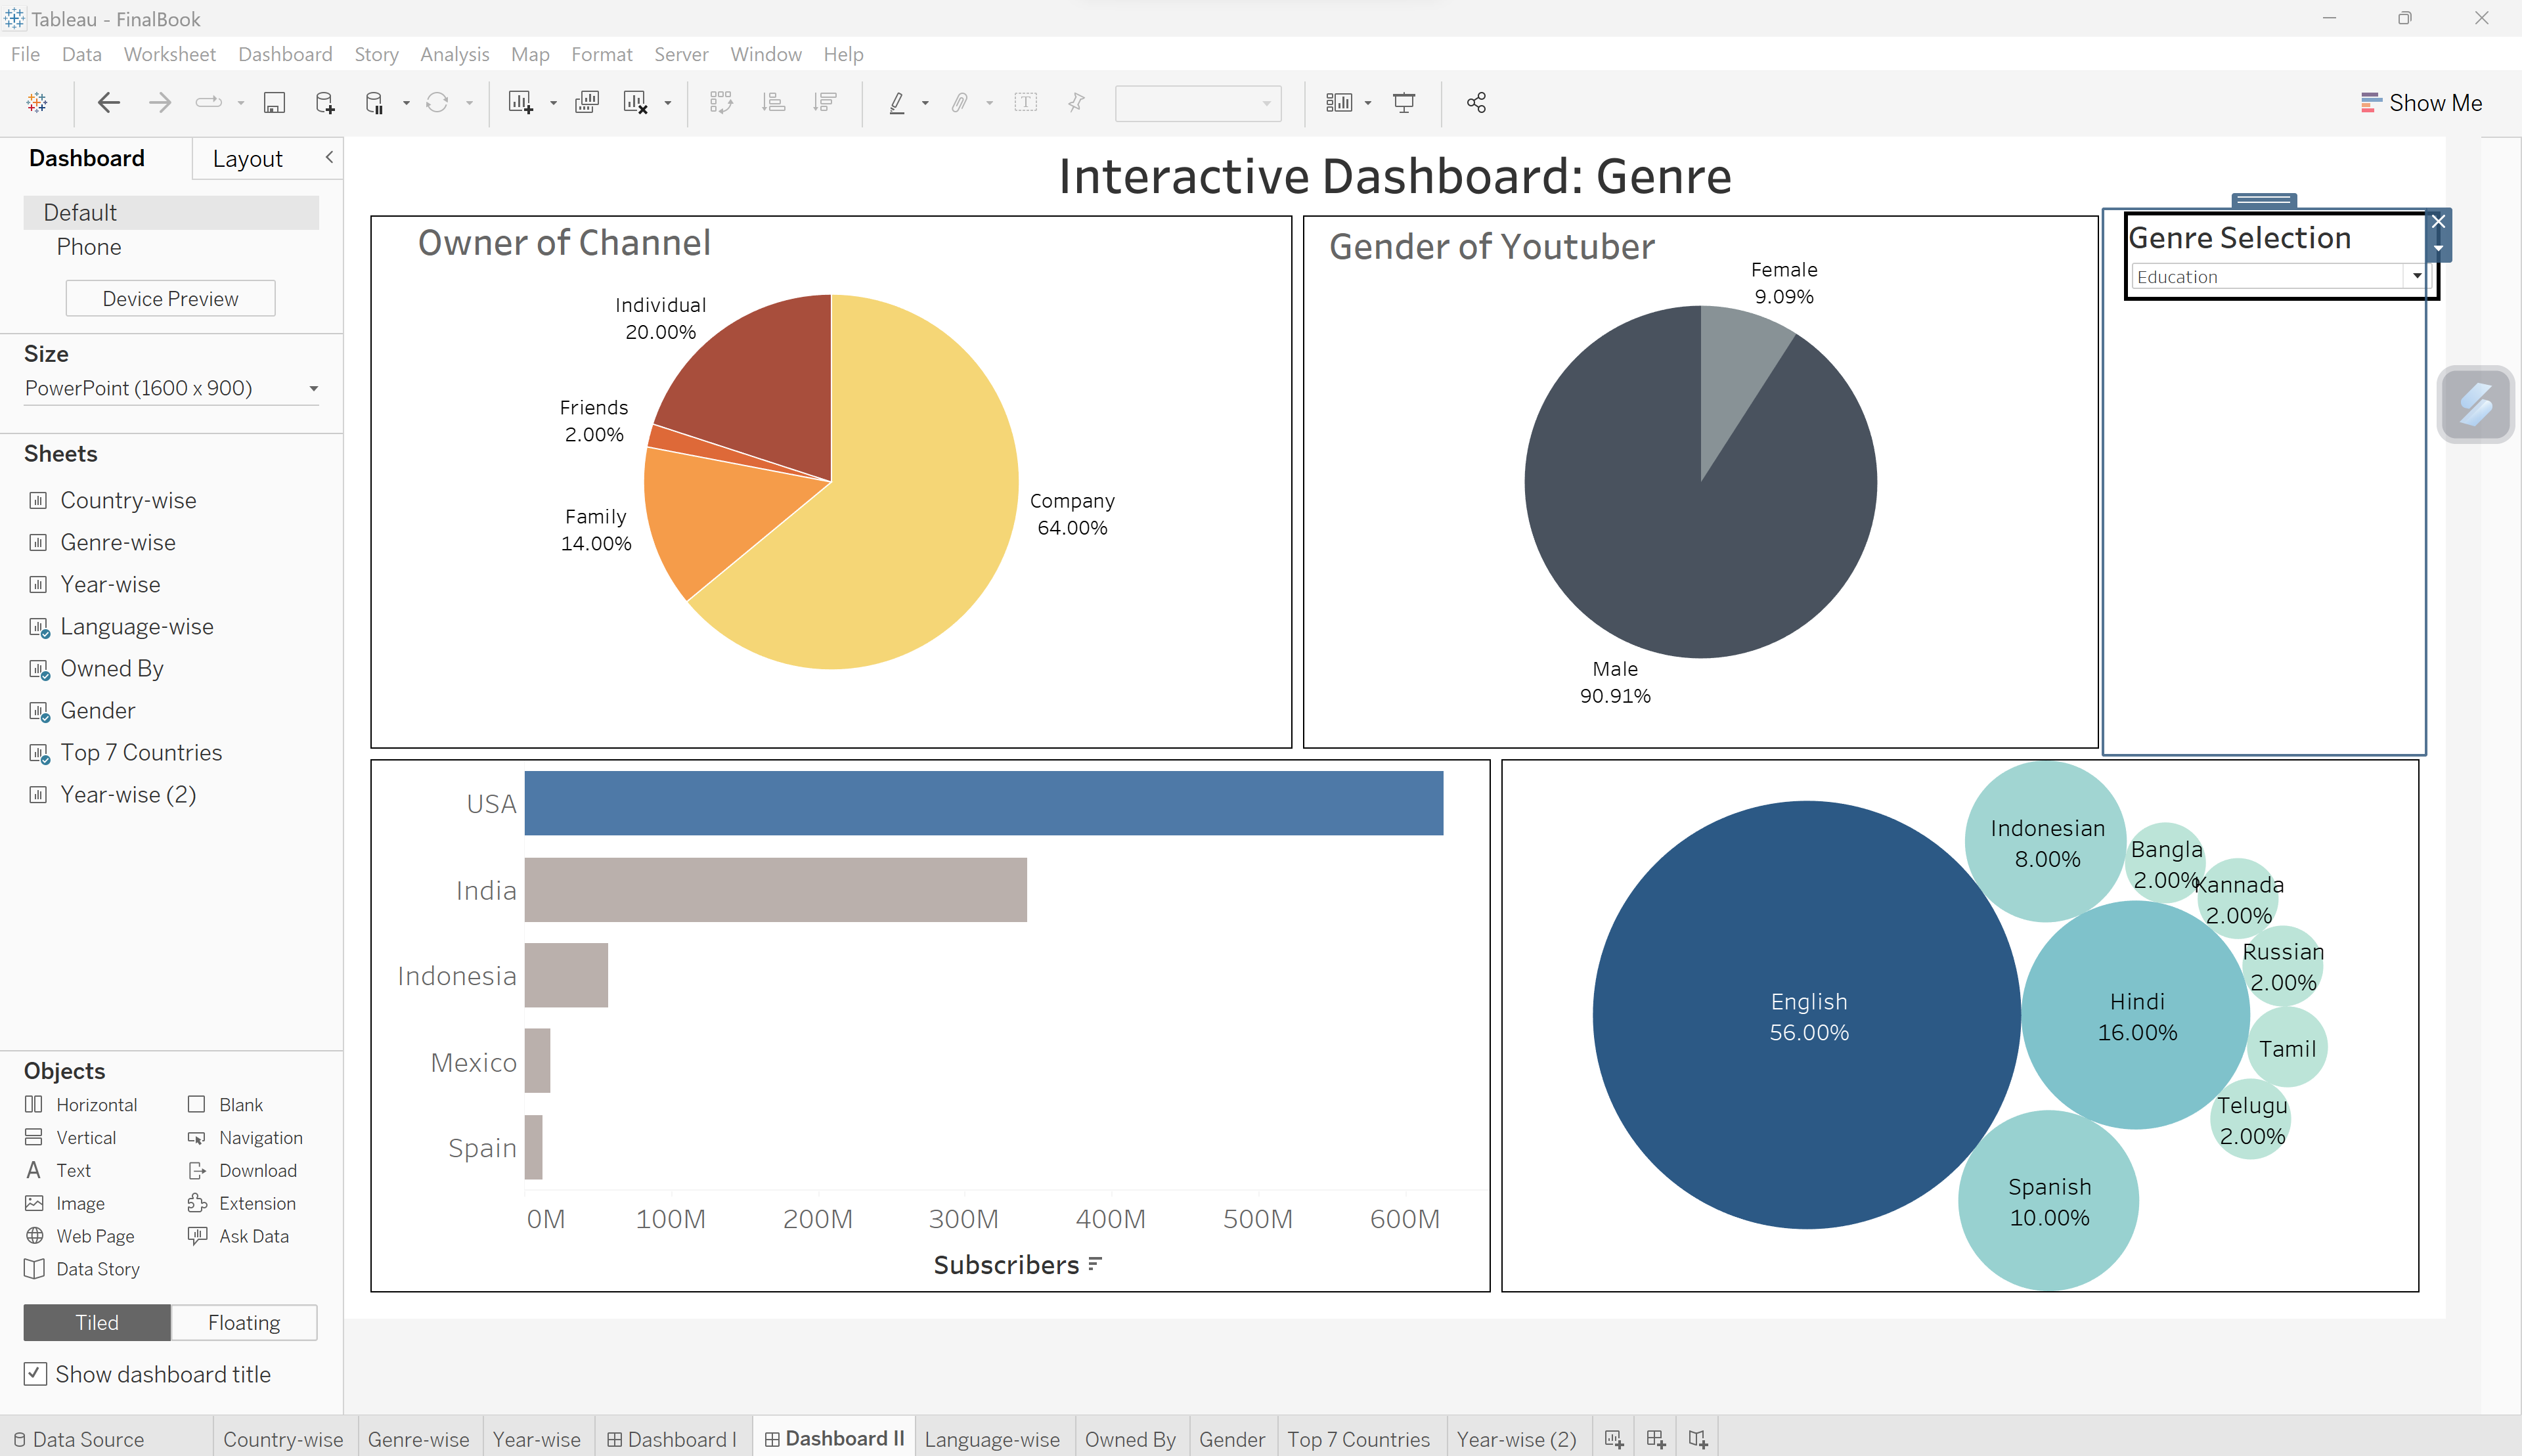

The dashboard page shown, as its layout file describes it:
{"tool":"tableau","page":{"name":"Dashboard II","canvas":[1600,900],"ordinal":1},"visuals":[{"type":"title","box":[8,8,1584,40]},{"type":"worksheet","title":"Owned By","mark":"Pie","box":[16,56,710,414]},{"type":"worksheet","title":"Gender","mark":"Pie","box":[726,56,614,414]},{"type":"parameter","param":"[Parameters].[Parameter 1]","box":[1355,57,241,68]},{"type":"text","box":[732,62,284,41]},{"type":"text","box":[24,64,288,30]},{"type":"worksheet","title":"Top 7 Countries","mark":"Automatic","rows":["Country"],"cols":["Subscribers"],"box":[16,470,860.8,414]},{"type":"worksheet","title":"Language-wise","mark":"Circle","box":[876.8,470,707.2,414]}]}

Visuals, with their boxes on the page's 1600x900 design canvas (x1, y1, x2, y2). These are canvas units, not pixel positions in the 2522x1456 screenshot, which may show the page scaled, cropped or inside an application window:
title: (x1=8, y1=8, x2=1592, y2=48)
"Owned By" worksheet (Pie marks): (x1=16, y1=56, x2=726, y2=470)
"Gender" worksheet (Pie marks): (x1=726, y1=56, x2=1340, y2=470)
parameter: (x1=1355, y1=57, x2=1596, y2=125)
text: (x1=732, y1=62, x2=1016, y2=103)
text: (x1=24, y1=64, x2=312, y2=94)
"Top 7 Countries" worksheet: (x1=16, y1=470, x2=877, y2=884)
"Language-wise" worksheet (Circle marks): (x1=877, y1=470, x2=1584, y2=884)
